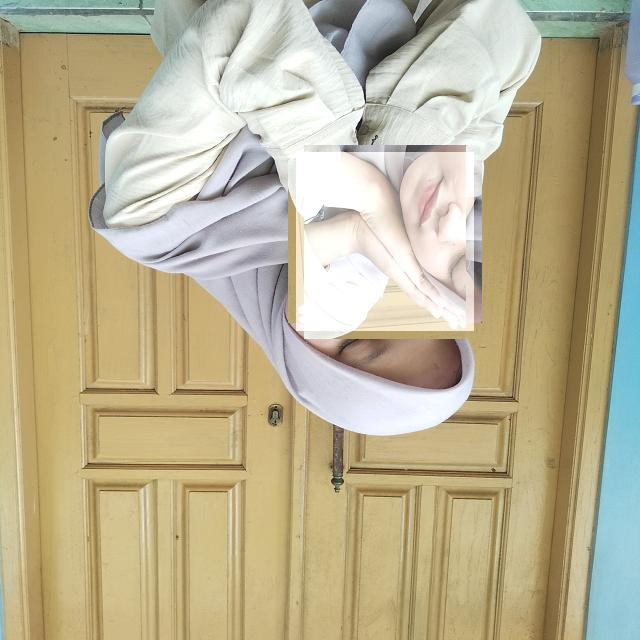tidur: (296, 152, 474, 331)
